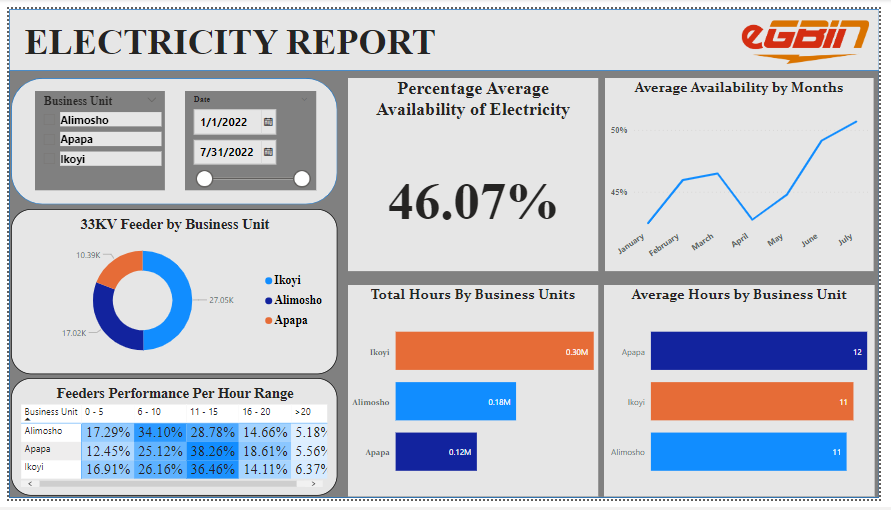

What the dashboard file says about the page in this screenshot:
{"tool":"powerbi","page":{"name":"Page 1","canvas":[1280,720],"ordinal":0},"visuals":[{"type":"shape","box":[0,0,1280,719.4],"z":0},{"type":"shape","box":[3.6,101.8,480.4,185.7],"z":0,"group":"g1"},{"type":"shape","box":[0,0,1280,90.6],"z":1000},{"type":"slicer","fields":{"Values":["Availability.Date"]},"box":[259,121.4,192.9,146.4],"z":1000,"group":"g1"},{"type":"image","box":[1061.3,11.8,218.7,74],"z":2000},{"type":"slicer","fields":{"Values":["Availability.Business Unit"]},"box":[39.3,121.4,191.1,146.4],"z":2000,"group":"g1"},{"type":"barChart","title":"Total Hours By Business Units","fields":{"Category":["Availability.Business Unit"],"Y":["Sum(Availability.Hours)"]},"box":[498.2,405.4,367.9,310.7],"z":3000},{"type":"barChart","title":"Average  Hours by Business Unit","fields":{"Category":["Availability.Business Unit"],"Y":["Avg(Availability.Hours)"]},"box":[875,405.4,398.2,310.7],"z":4000},{"type":"donutChart","title":"33KV Feeder by Business Unit","fields":{"Category":["Availability.Business Unit"],"Y":["CountNonNull(Availability.33KV Feeder)"]},"box":[3.6,294.6,480.4,242.9],"z":5000},{"type":"pivotTable","title":"Feeders Performance Per Hour Range","fields":{"Rows":["Availability.Business Unit"],"Values":["Min(Availability.33KV Feeder)"],"Columns":["Availability.Hours Range"]},"box":[3.6,542.9,480.4,173.2],"z":6000},{"type":"textbox","box":[17.1,12,623.8,71.8],"z":7000},{"type":"lineChart","title":"Average Availability by Months","fields":{"Y":["Avg(Availability.Division)"],"Category":["Availability.Date.Variation.Date Hierarchy.Month"]},"box":[876.8,101.8,394.6,283.9],"z":8000},{"type":"card","title":"Percentage Average Availability of Electricity","fields":{"Values":["Avg(Availability.Division)"]},"box":[498.2,101.8,367.9,283.9],"z":9000},{"type":"group","id":"g1","title":"Group 1","box":[3.6,101.8,480.4,185.7],"z":10000}]}

Visuals, with their boxes in screenshot pixels (x1, y1, x2, y2), scaled from the page's 1280x720 canvas onto the 891x510 screenshot:
shape: rect(0, 0, 890, 509)
shape: rect(3, 72, 337, 204)
shape: rect(0, 0, 890, 64)
slicer - Availability.Date: rect(180, 86, 315, 190)
image: rect(739, 8, 890, 61)
slicer - Availability.Business Unit: rect(27, 86, 160, 190)
"Total Hours By Business Units" barChart: rect(347, 287, 603, 507)
"Average  Hours by Business Unit" barChart: rect(609, 287, 886, 507)
"33KV Feeder by Business Unit" donutChart: rect(3, 209, 337, 381)
"Feeders Performance Per Hour Range" pivotTable: rect(3, 385, 337, 507)
textbox: rect(12, 8, 446, 59)
"Average Availability by Months" lineChart: rect(610, 72, 885, 273)
"Percentage Average Availability of Electricity" card: rect(347, 72, 603, 273)
"Group 1" group: rect(3, 72, 337, 204)
